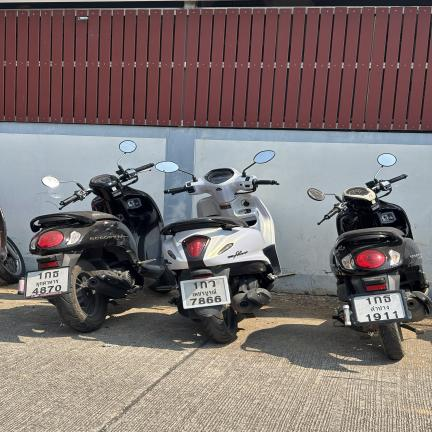0: (55, 285, 62, 291)
1: (364, 313, 373, 322), (381, 311, 391, 319), (390, 310, 400, 318), (191, 282, 199, 290), (365, 297, 372, 305), (37, 272, 42, 279)
4: (31, 287, 39, 294)
6: (214, 294, 223, 303), (206, 296, 214, 304)
7: (189, 297, 198, 306), (47, 285, 55, 293)
8: (198, 297, 207, 305), (39, 286, 47, 293)
9: (372, 312, 383, 321)
A01: (372, 296, 383, 304), (44, 271, 52, 279), (200, 281, 208, 289)
A24: (382, 294, 392, 303), (52, 270, 60, 277)
A37: (208, 280, 216, 287)
LPG: (368, 304, 391, 312)
MDH: (34, 278, 61, 287)
PCH: (191, 287, 220, 298)
